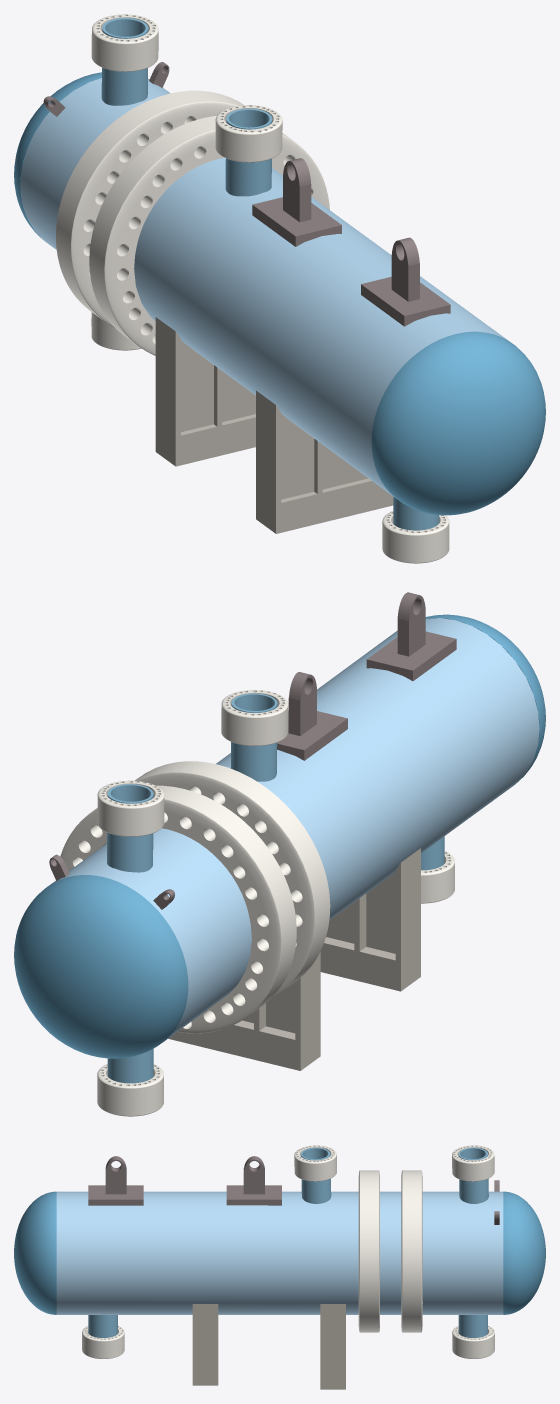
Rendered from trocador de calo--r.glb.
The picture shows the model from 3 angles, top to bottom: view 1: azimuth 30°, elevation 25°; view 2: azimuth 150°, elevation 25°; view 3: azimuth 270°, elevation 25°; orthographic projection. The views are drawn at different scales.
Parts seen in each view (by area): view 1: Body1, Body3, Body15, Body14, Body13, Body8, Body10, Body9, Body19, Body17, Body18, Body7 (+4 smaller); view 2: Body1, Body2, Body14, Body15, Body13, Body8, Body10, Body9, Body17, Body19, Body16, Body5 (+4 smaller); view 3: Body1, Body2, Body3, Body14, Body15, Body8, Body13, Body10, Body9, Body17, Body19, Body16 (+5 smaller).
Boxes of the visible parts, x1,y1,x2,y2 form: Body1: (20,78,507,497); Body3: (371,331,545,515); Body15: (89,116,329,355); Body14: (56,90,243,327); Body13: (256,390,393,533); Body8: (155,317,255,466); Body10: (361,237,450,326); Body9: (252,158,341,246); Body19: (215,105,282,162); Body17: (91,14,158,71); Body18: (382,511,449,563); Body7: (225,108,272,196); Body1: (51,618,539,1040); Body2: (14,875,188,1058); Body14: (60,785,296,1033); Body15: (134,761,330,998); Body13: (320,848,420,991); Body8: (168,951,320,1070); Body10: (366,592,456,680); Body9: (277,672,347,760); Body17: (97,780,164,836); Body19: (221,690,288,745); Body16: (97,1064,163,1116); Body5: (107,784,153,872); Body1: (56,1191,503,1314); Body2: (503,1191,545,1314); Body3: (14,1191,56,1314); Body14: (401,1170,422,1332); Body15: (358,1170,379,1332); Body8: (320,1304,345,1389); Body13: (192,1304,218,1385); Body10: (88,1156,143,1205); Body9: (226,1156,281,1205); Body17: (452,1145,494,1181); Body19: (294,1145,336,1181); Body16: (452,1325,494,1358).
Size of the model in its own units: 78 by 110 by 250.
